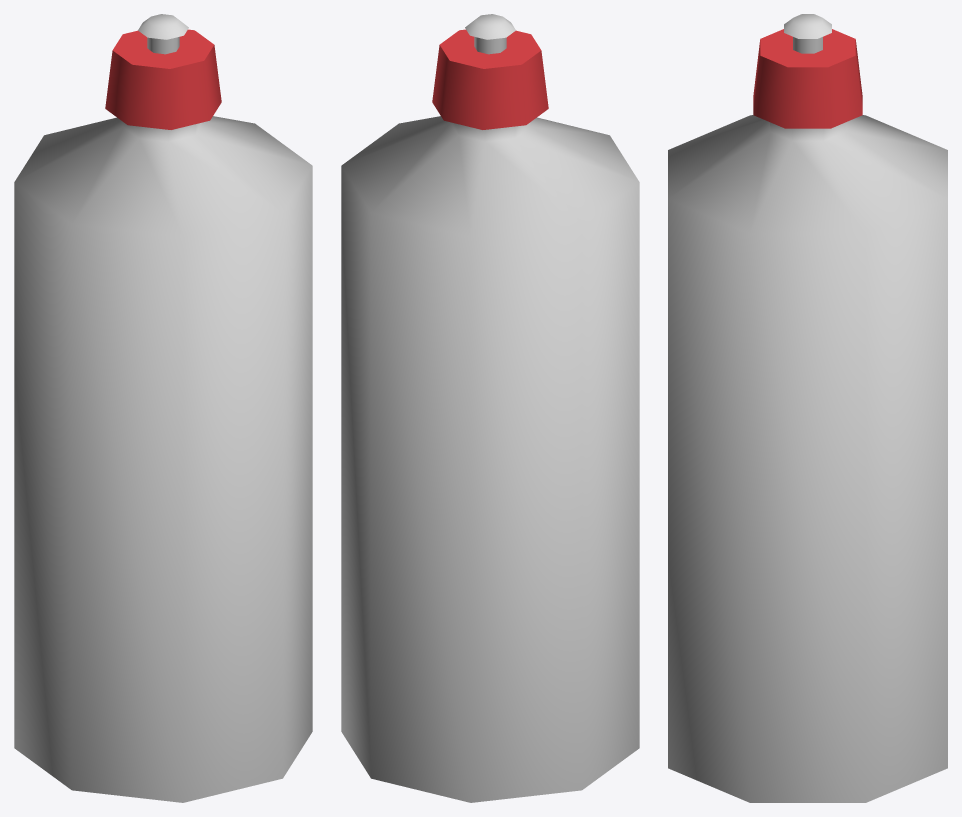
The model's file is bottle_cleaning_dish.fbx.
3 views of the same model, side by side, from view 1: azimuth 30°, elevation 25°; view 2: azimuth 150°, elevation 25°; view 3: azimuth 270°, elevation 25° (orthographic).
Visible parts, largest first — view 1: Bottle_Dishsoap; view 2: Bottle_Dishsoap; view 3: Bottle_Dishsoap.
Part boxes in pixels (bbox=[...]): Bottle_Dishsoap: bbox=[14, 14, 312, 802]; Bottle_Dishsoap: bbox=[341, 14, 639, 802]; Bottle_Dishsoap: bbox=[668, 14, 947, 802].
Size of the model in its own units: 62.25 by 178 by 62.25.
